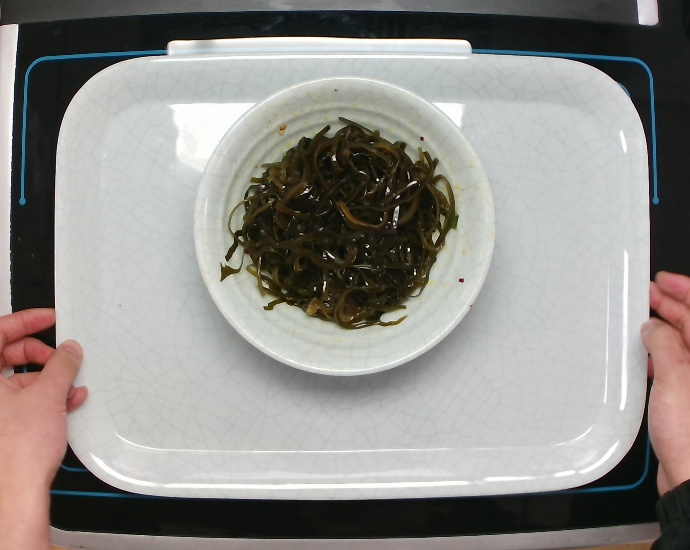JYsf-Xiao_Tang_Wan: (189, 73, 498, 379)
